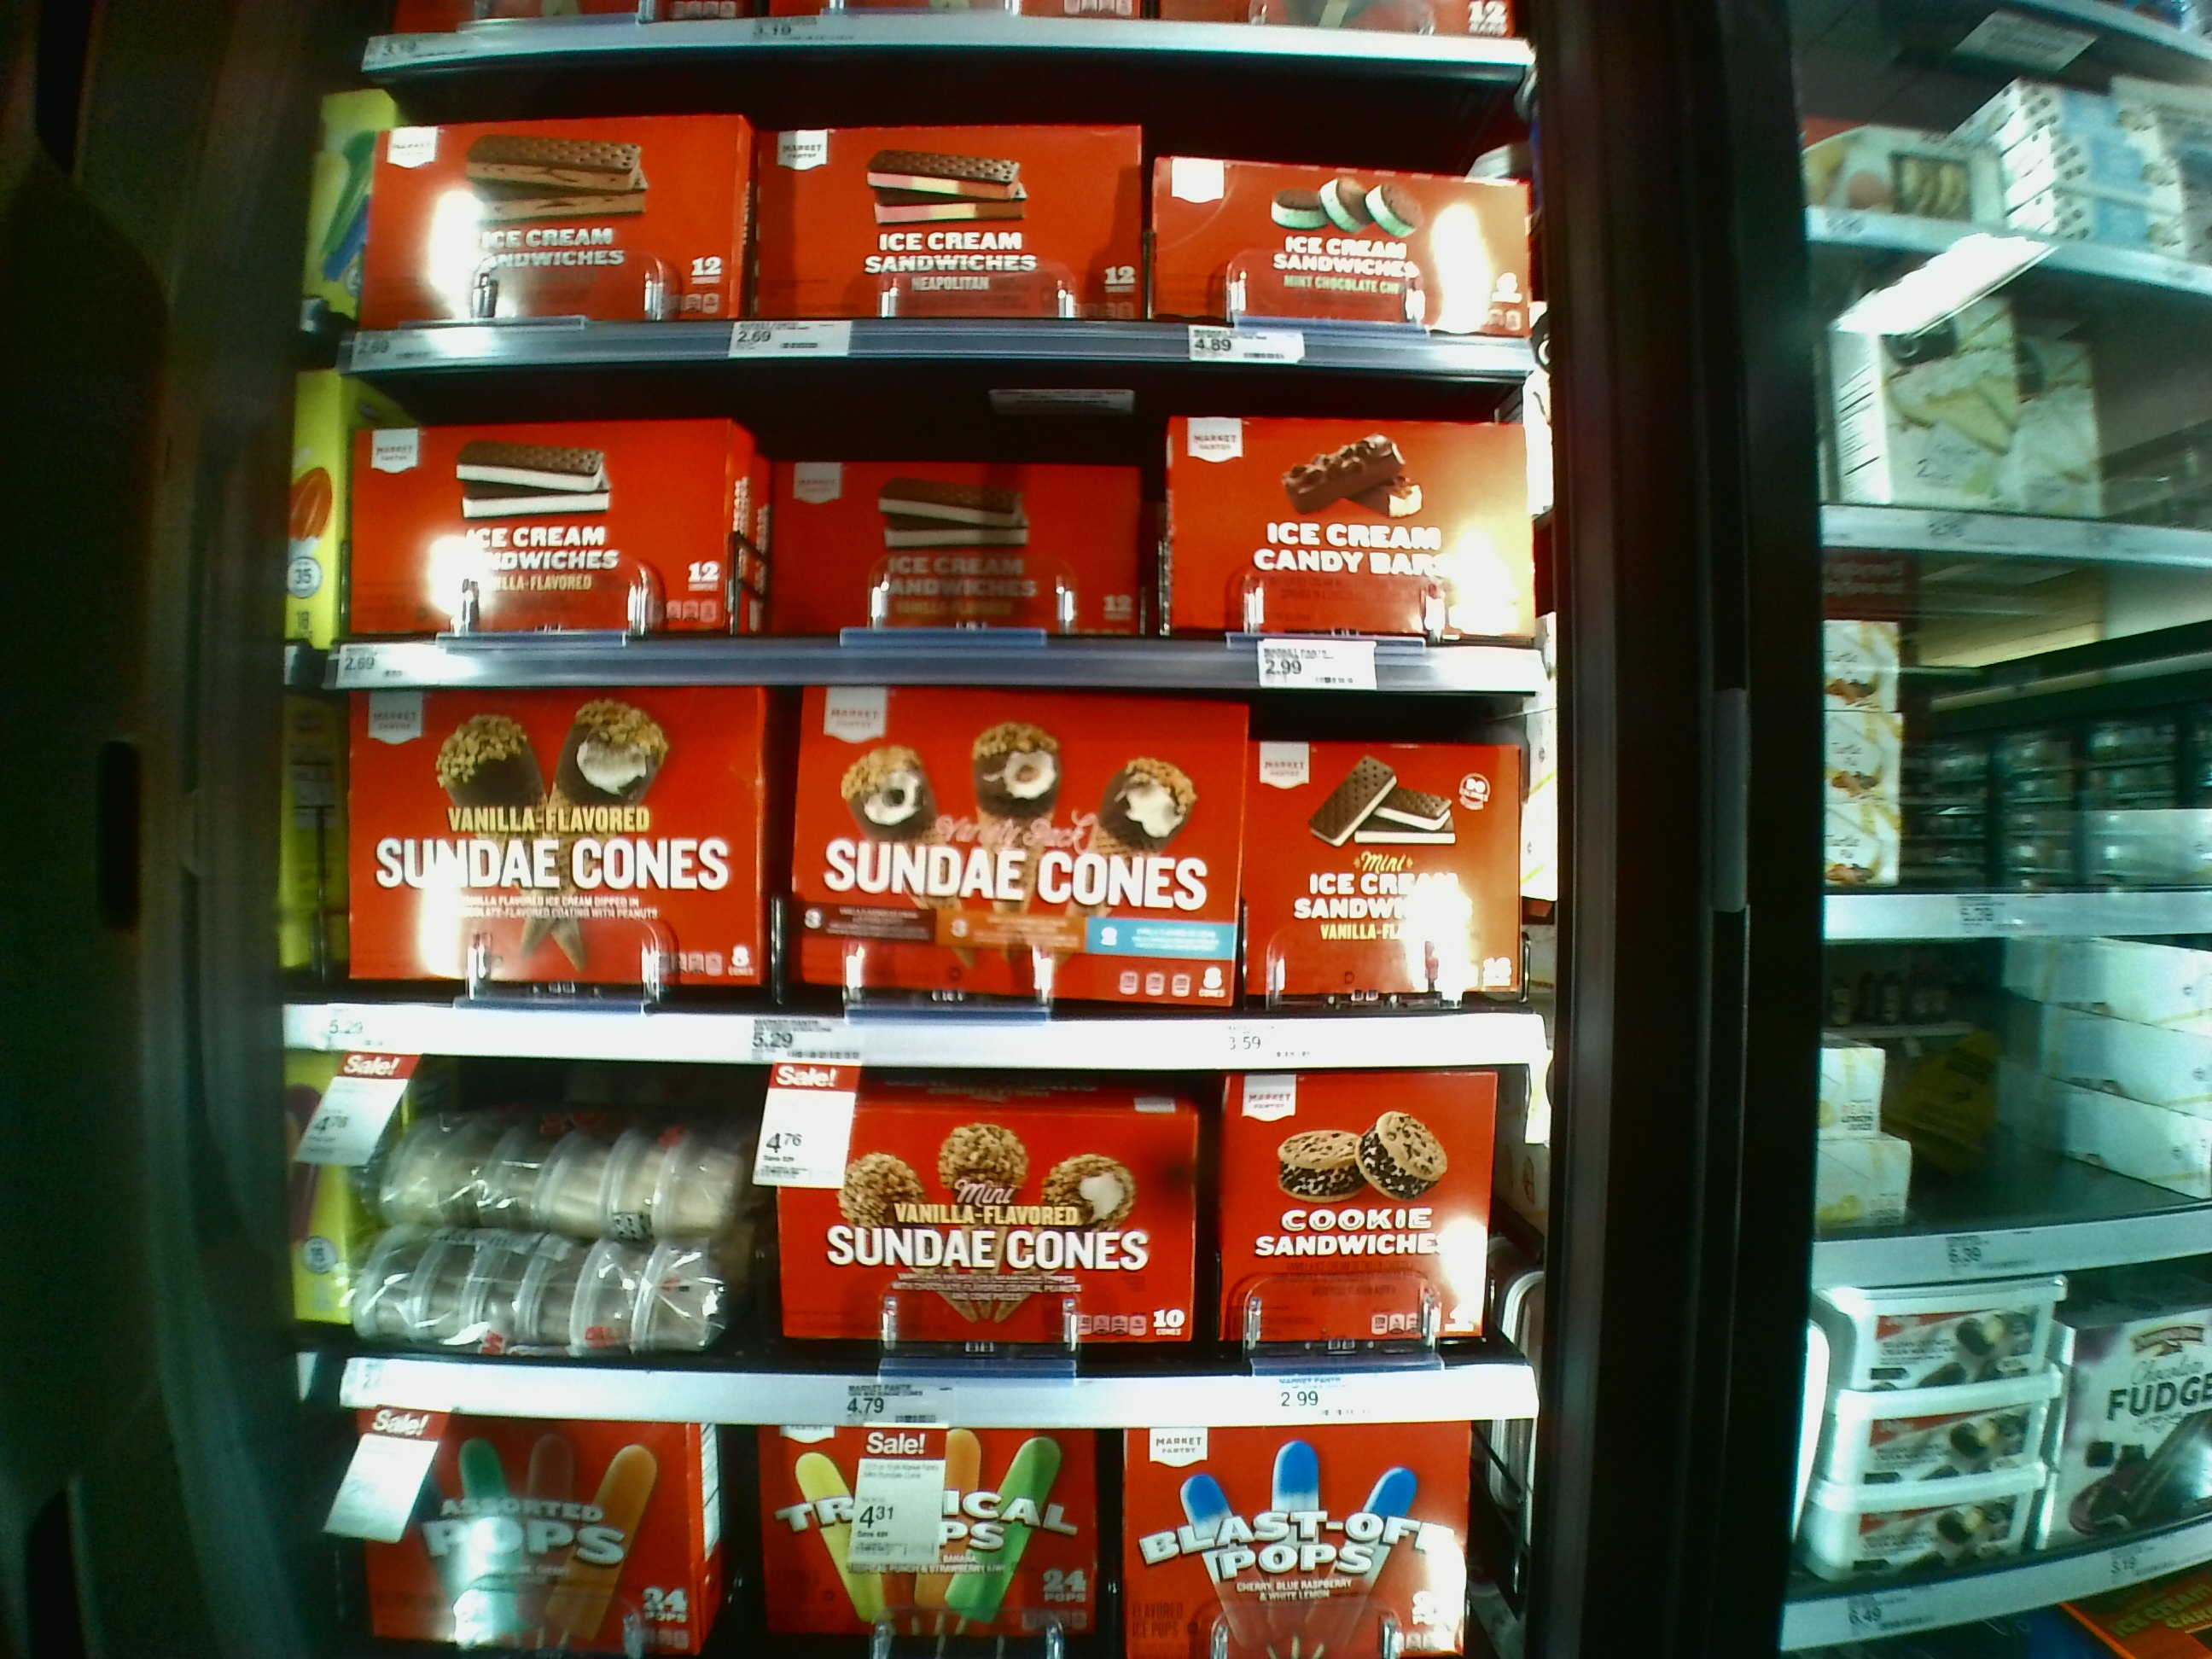shelf: (324, 701, 1568, 1063), (331, 1044, 1512, 1424), (336, 390, 1538, 692), (340, 71, 1534, 375)
